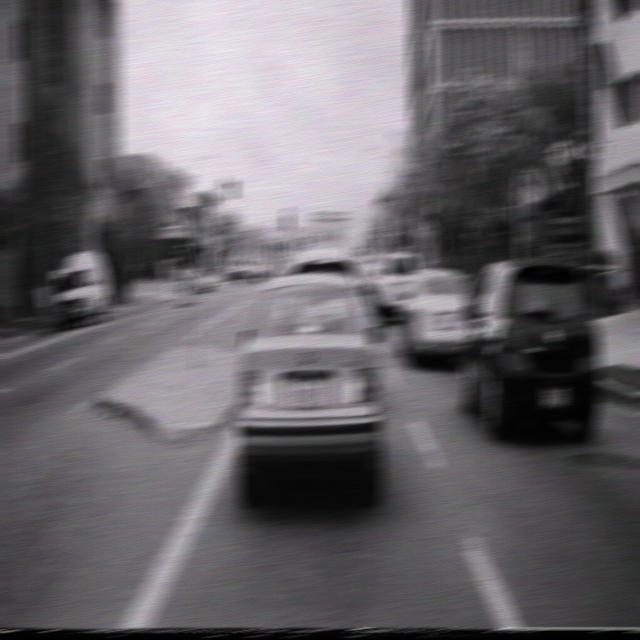noLeftTurn: (190, 189, 209, 244)
